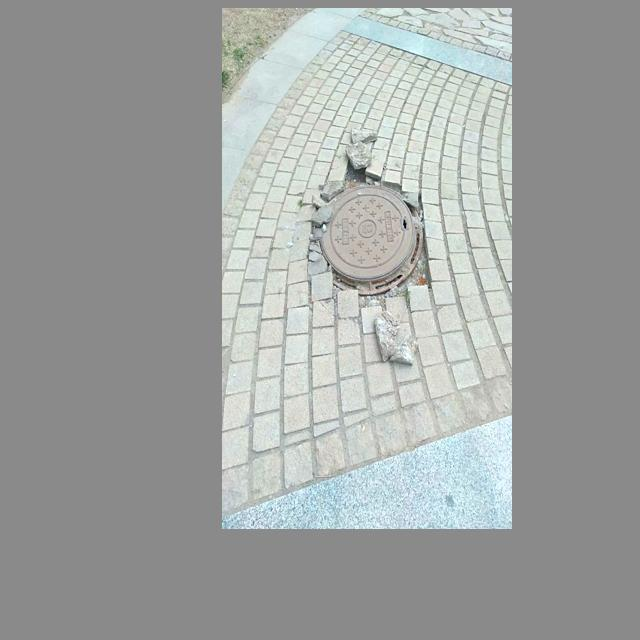circle: (293, 152, 443, 320)
